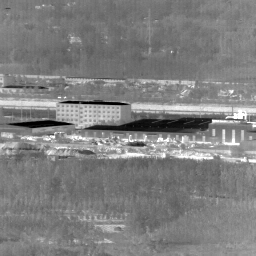aircraft: (80, 48, 82, 50)
